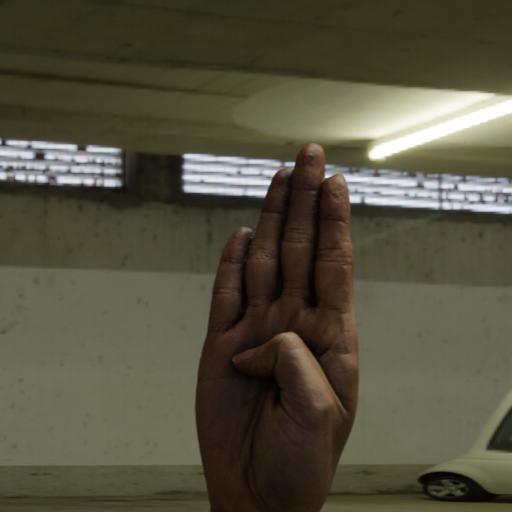B: (190, 135, 368, 512)
